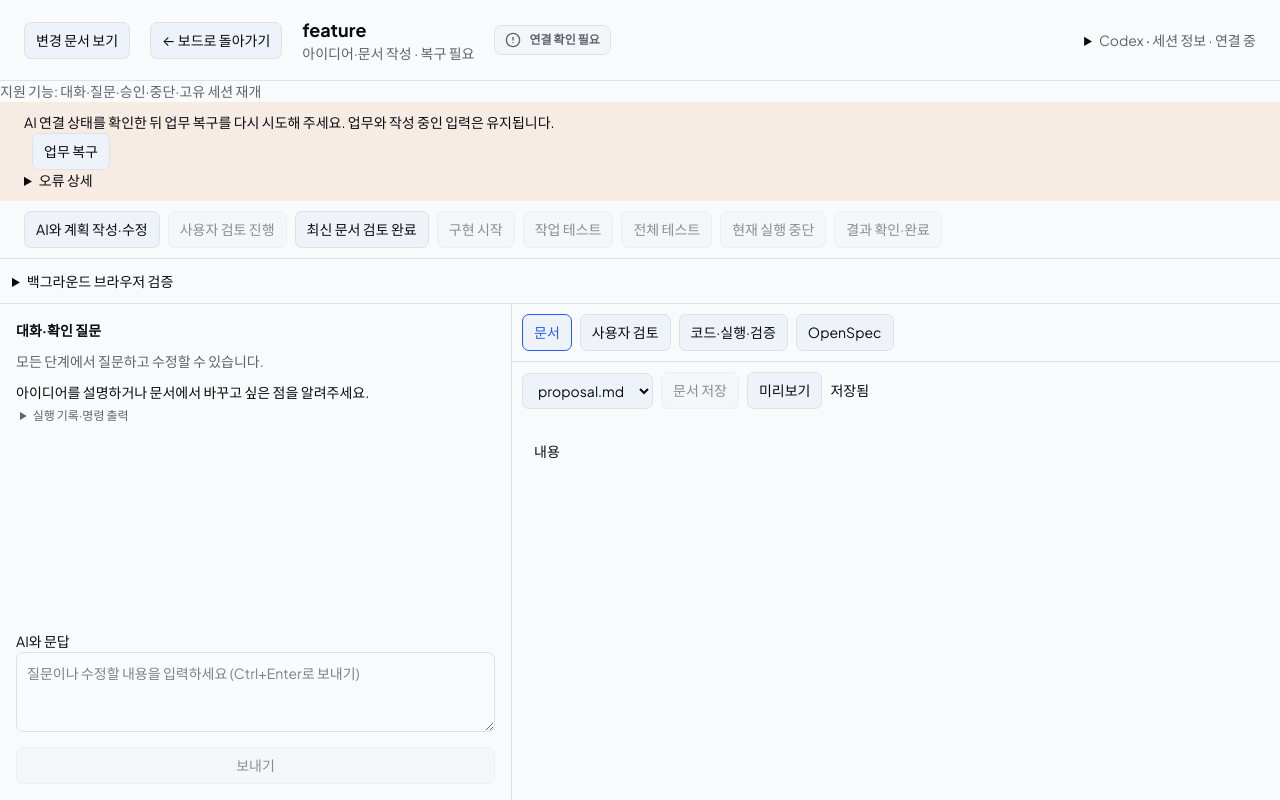
Test case: 복구 버튼은 메시지를 보내지 않고 기존 대화만 다시 연결한다
This screenshot has width=1280, height=800.
Step 1. Click the button "업무 복구" → x=71, y=152, box top-left (32, 133), bottom-right (110, 170)
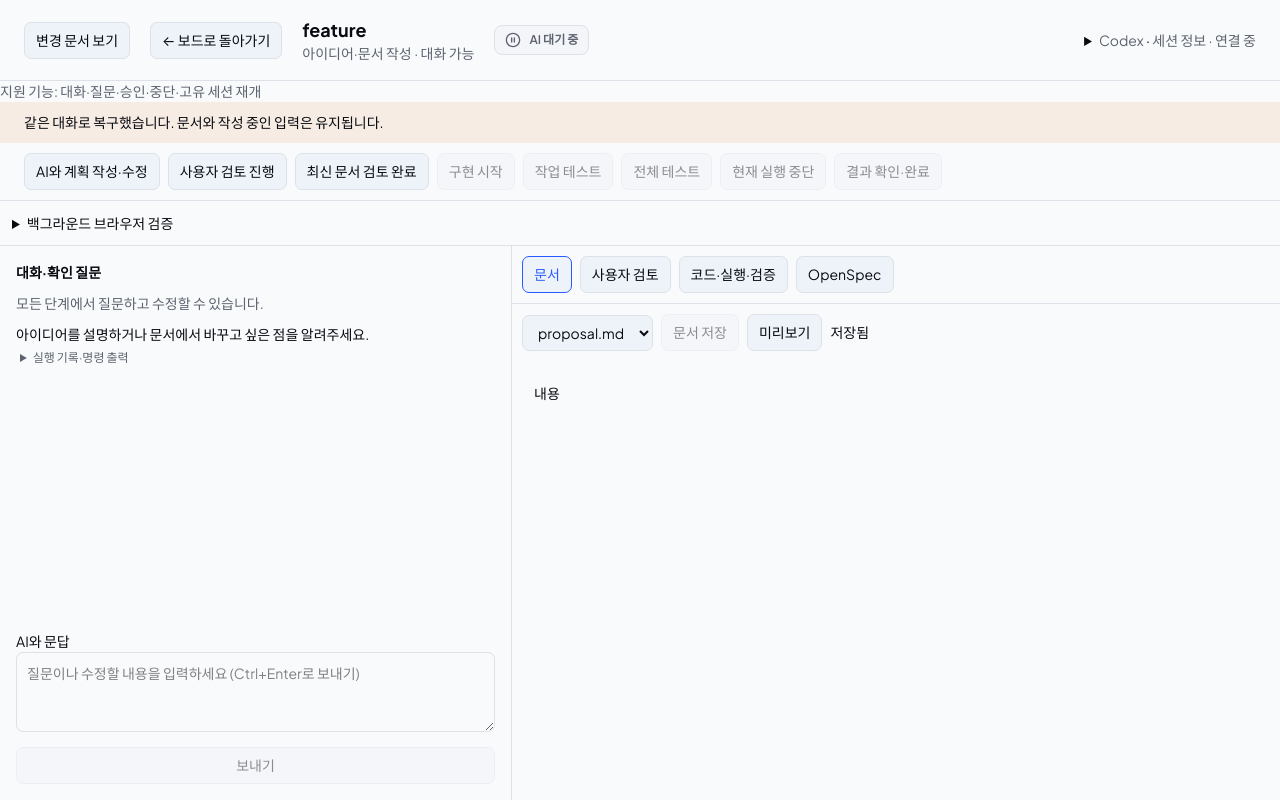
Now the message "업무 복구" is gone
